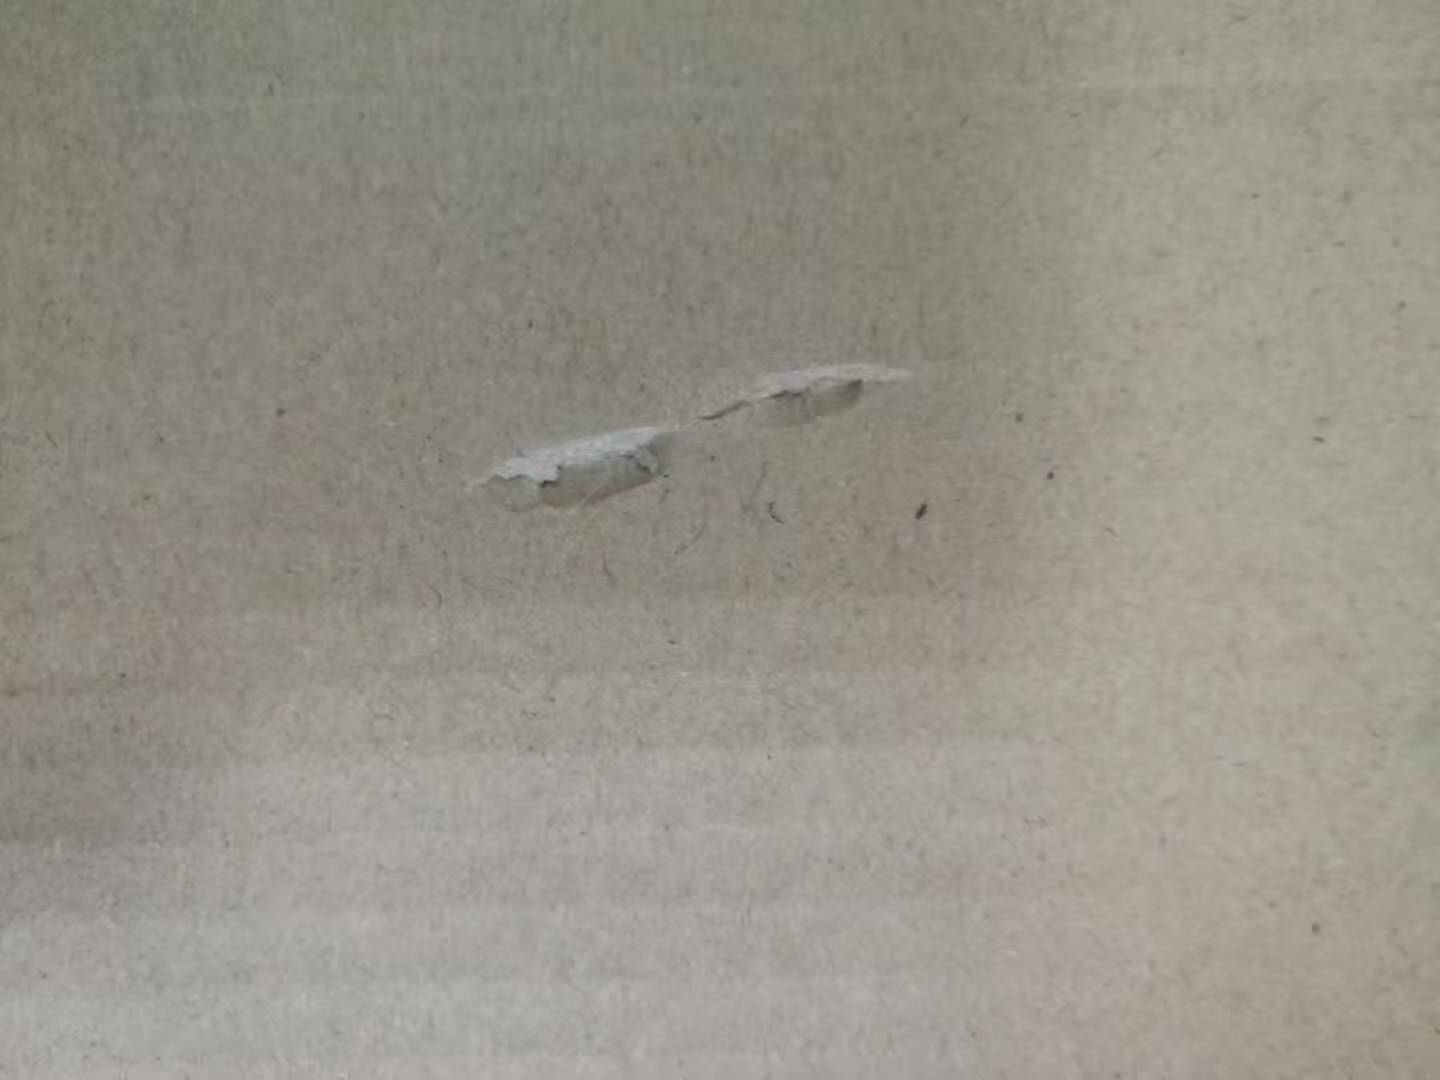defect: (444, 395, 706, 548), (678, 334, 957, 455)
